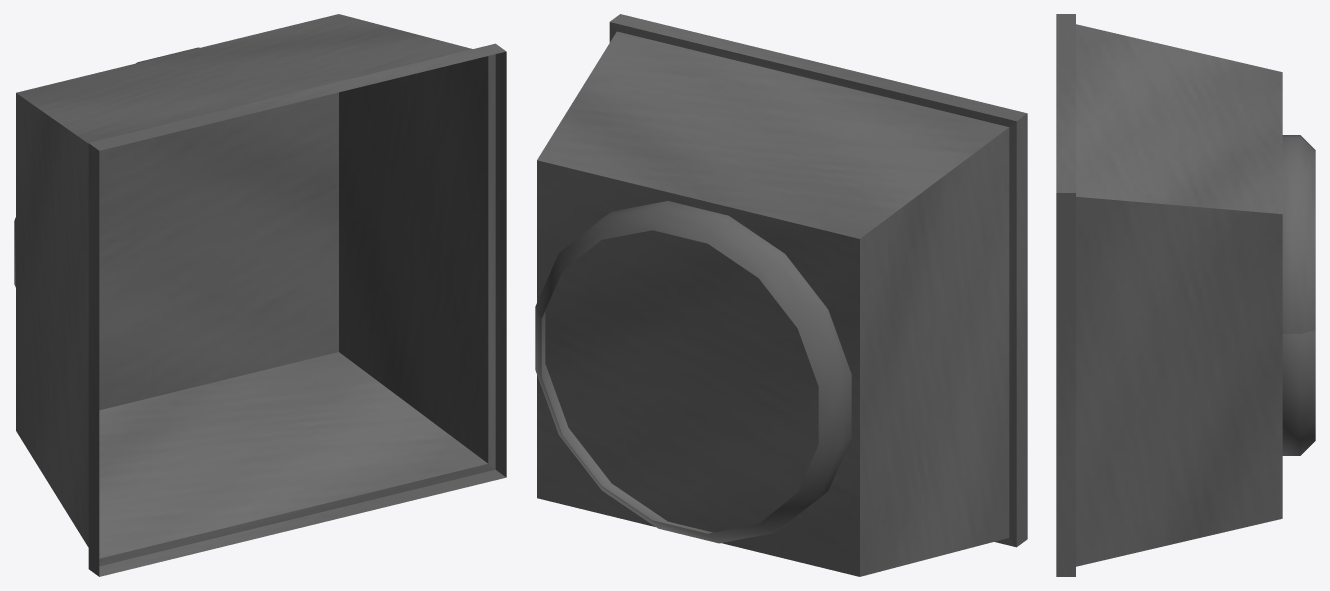
The model's file is polebase_impact_pedestal.obj.
3 renders of one model, left to right at view 1: azimuth 30°, elevation 25°; view 2: azimuth 150°, elevation 25°; view 3: azimuth 270°, elevation 25°, orthographic. The views are drawn at different scales.
Parts seen in each view (by area): view 1: polebase_impact_pedestal; view 2: polebase_impact_pedestal; view 3: polebase_impact_pedestal.
Part boxes in pixels (x1,y1,x2,y2): polebase_impact_pedestal: (14, 14, 506, 576); polebase_impact_pedestal: (535, 14, 1027, 576); polebase_impact_pedestal: (1056, 14, 1315, 576).
Size of the model in its own units: 1.45 by 1.45 by 0.8869.
